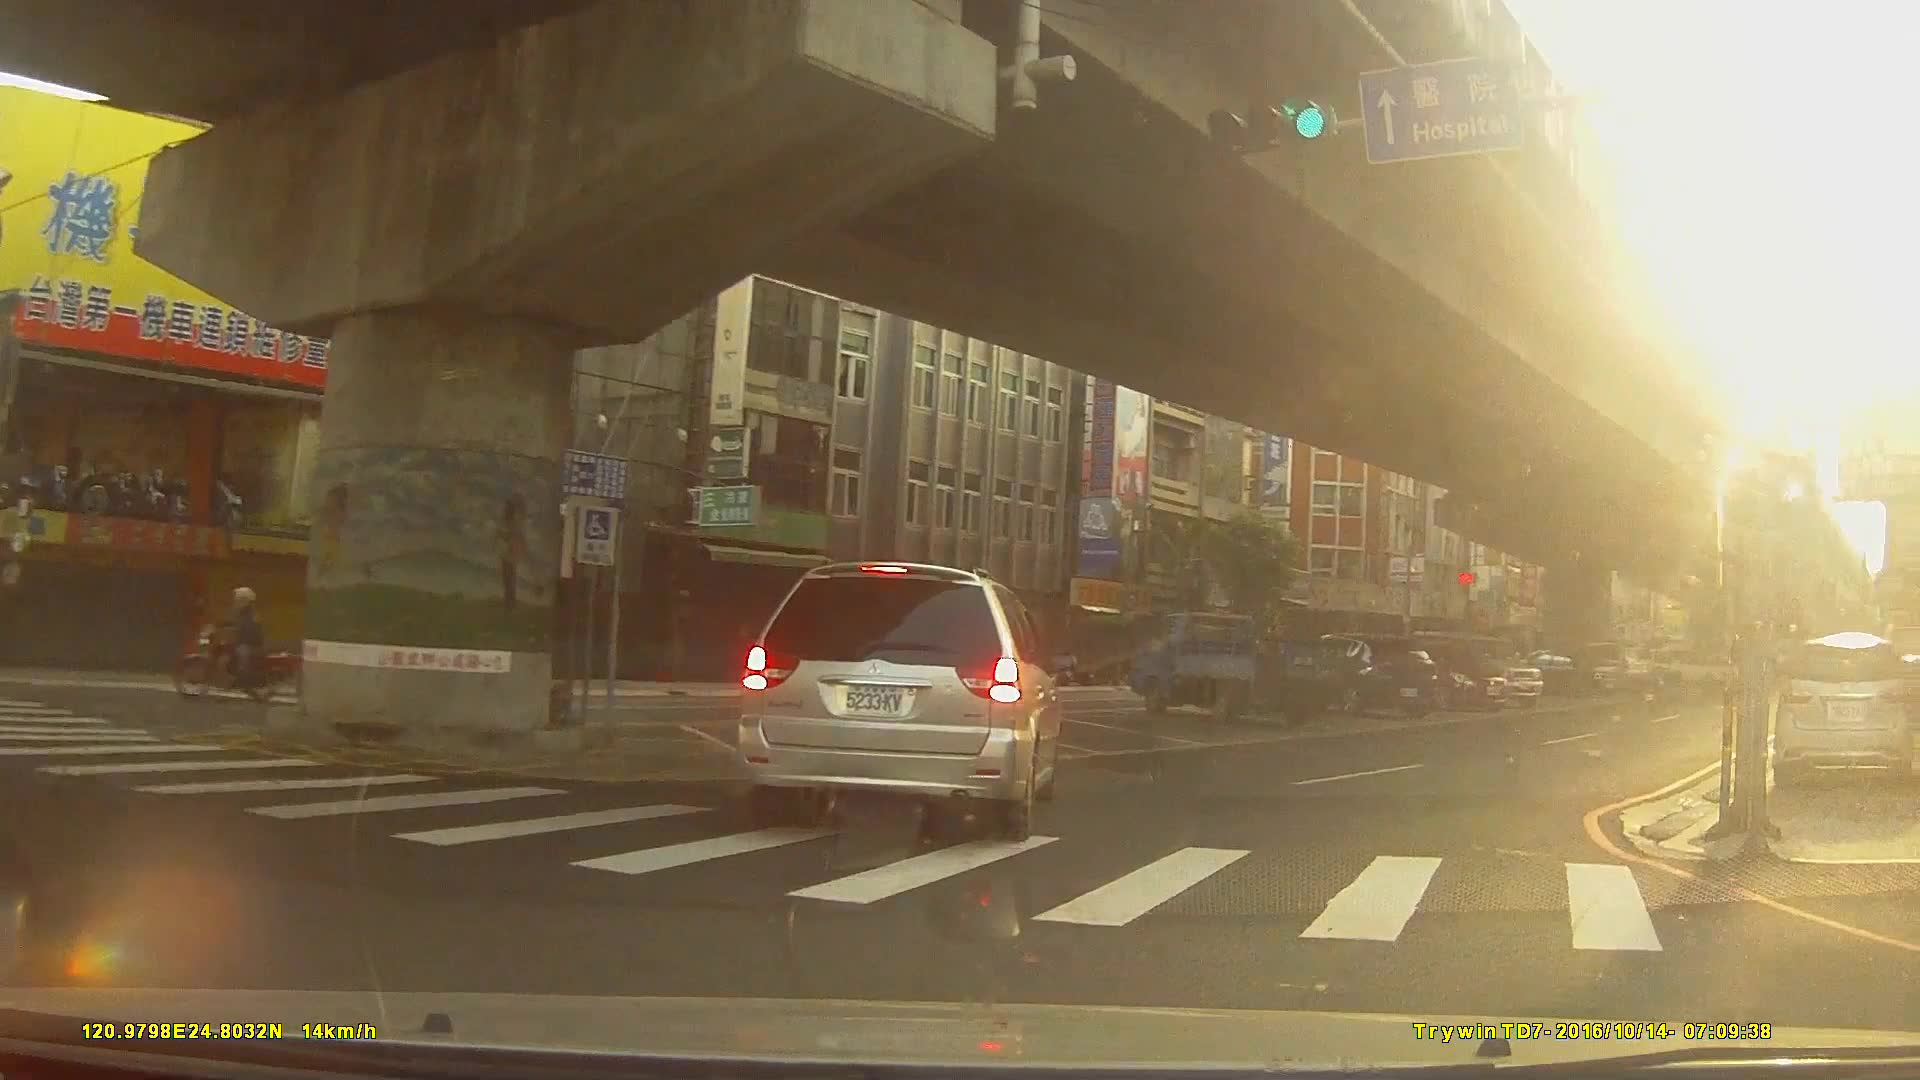rider: (172, 588, 294, 707)
vehicle: (735, 559, 1061, 844), (1125, 608, 1342, 725), (1774, 634, 1909, 795), (1295, 631, 1436, 718), (1374, 639, 1510, 712), (1502, 652, 1595, 701)
